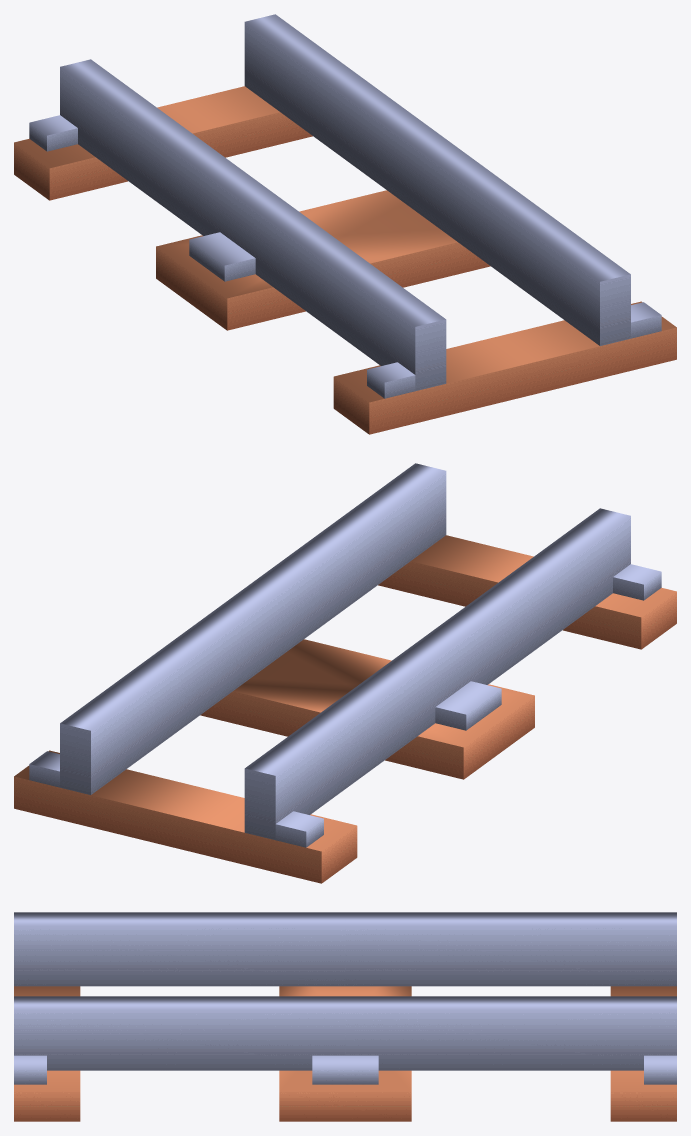
File: track-detailed.glb
The picture shows the model from 3 angles, top to bottom: view 1: azimuth 30°, elevation 25°; view 2: azimuth 150°, elevation 25°; view 3: azimuth 270°, elevation 25°; orthographic projection. The views are drawn at different scales.
Parts seen in each view (by area): view 1: track-detailed; view 2: track-detailed; view 3: track-detailed.
Part boxes in pixels (box(x1,y1,x2,y2)): track-detailed: box(14, 14, 676, 434); track-detailed: box(14, 463, 676, 883); track-detailed: box(14, 912, 676, 1121).
Bounding box in the file's own units: 0.5 × 0.15 × 1.
1 material, 1 textured.
